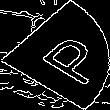P_NW: (12, 25, 98, 85)
